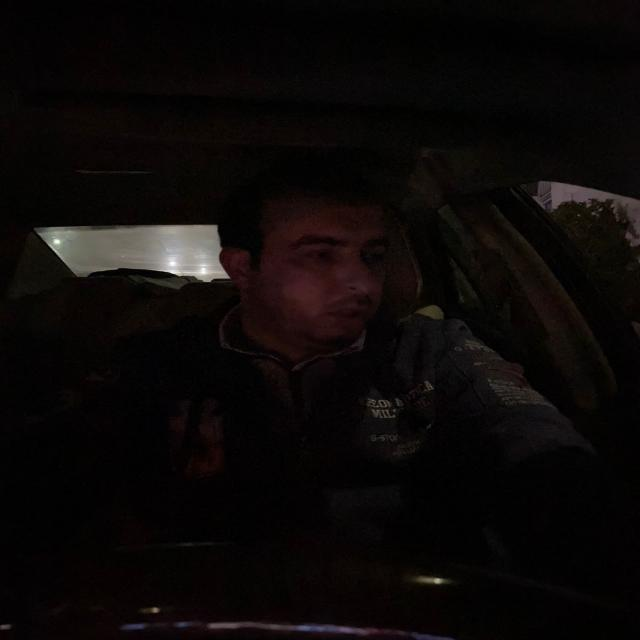LeftRight: (208, 152, 416, 365)
